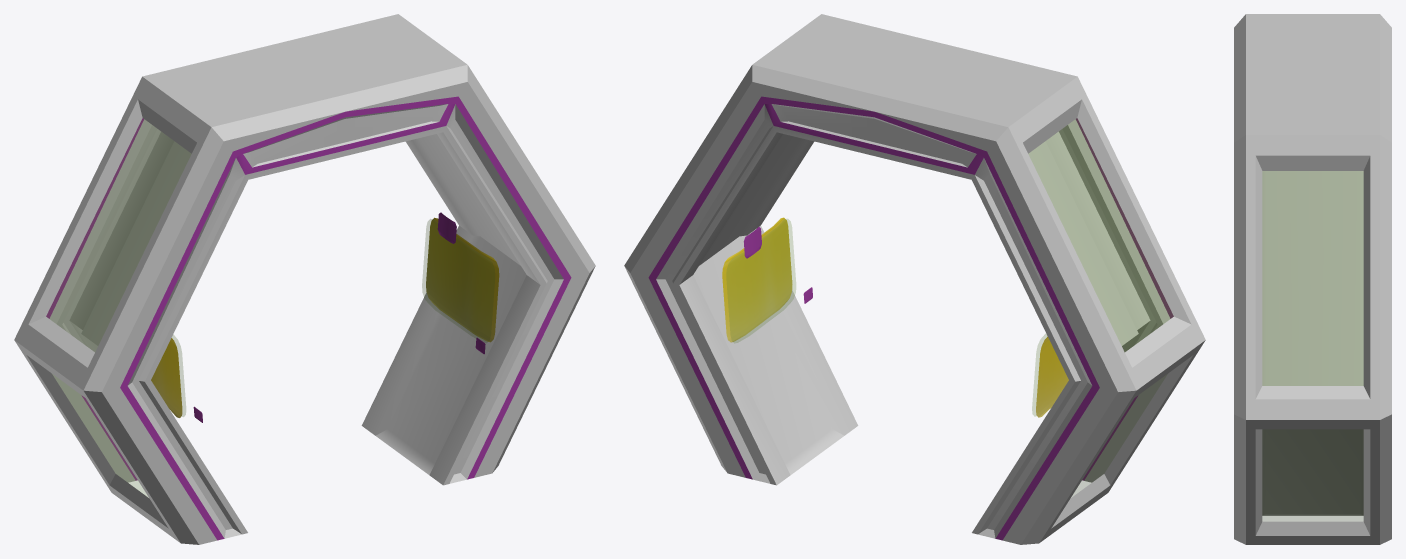
The model's file is Museum_Expo_Area_Entry_01_Art.fbx.
3 views of the same model, side by side, from view 1: azimuth 30°, elevation 25°; view 2: azimuth 150°, elevation 25°; view 3: azimuth 270°, elevation 25° (orthographic). The views are drawn at different scales.
Visible parts, largest first — view 1: Museum_Expo_Area_Entry_01; view 2: Museum_Expo_Area_Entry_01; view 3: Museum_Expo_Area_Entry_01.
Boxes of the visible parts, x1,y1,x2,y2 form: Museum_Expo_Area_Entry_01: [14, 14, 595, 544]; Museum_Expo_Area_Entry_01: [624, 14, 1205, 544]; Museum_Expo_Area_Entry_01: [1234, 14, 1391, 544].
Size of what is drawn, in the model's own units: 557 by 424 by 154.
